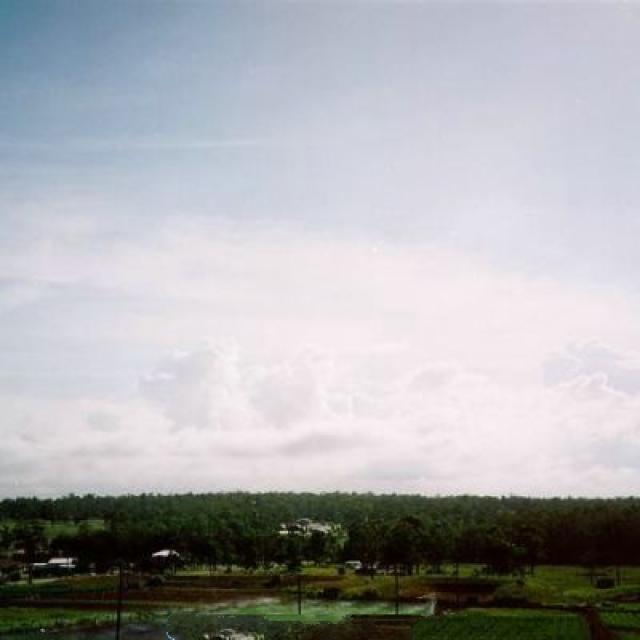Cs: (1, 96, 640, 436)
